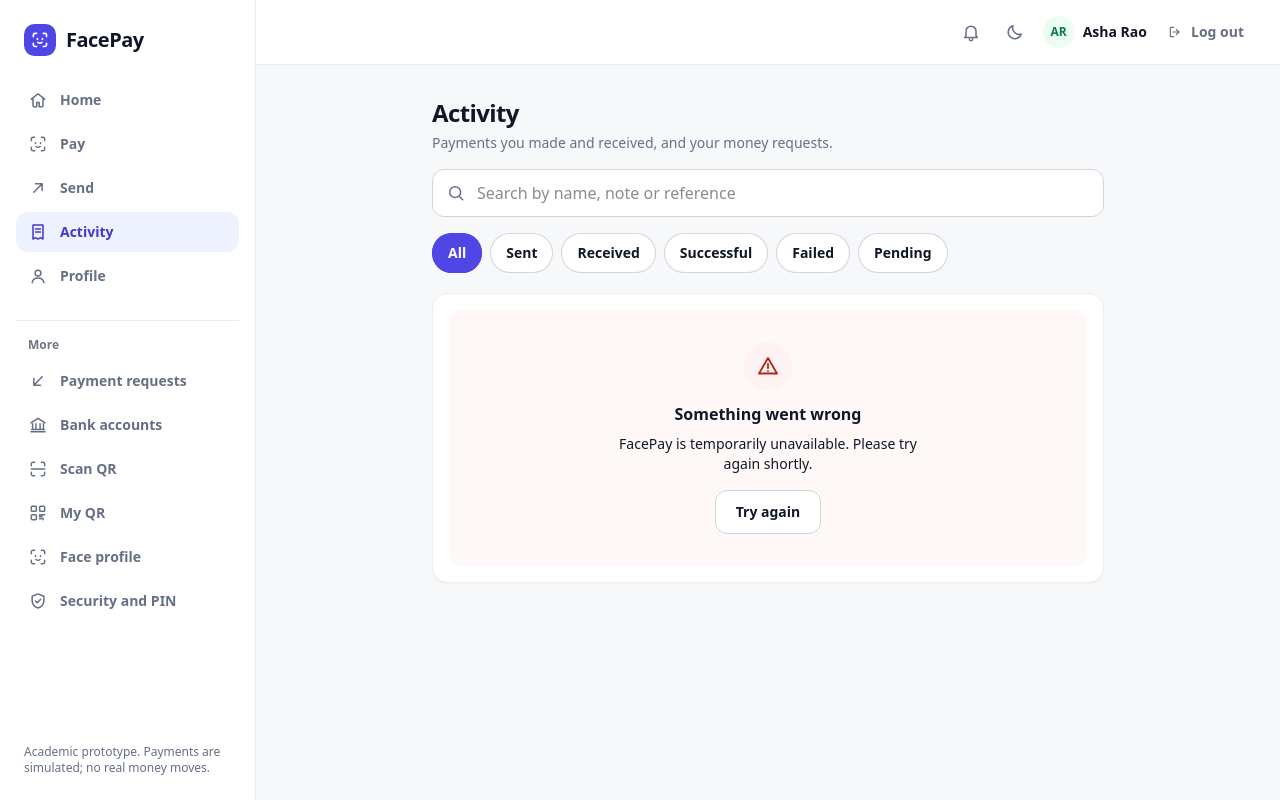
Test case: transactions page › shows a friendly error with a working retry
The width and height of the screenshot is (1280, 800).
Check: the message shows "temporarily unavailable", box x1=619 y1=434 x2=917 y2=473
Step 1. Click the button "Try again" → [768, 512], box x1=715 y1=490 x2=821 y2=534
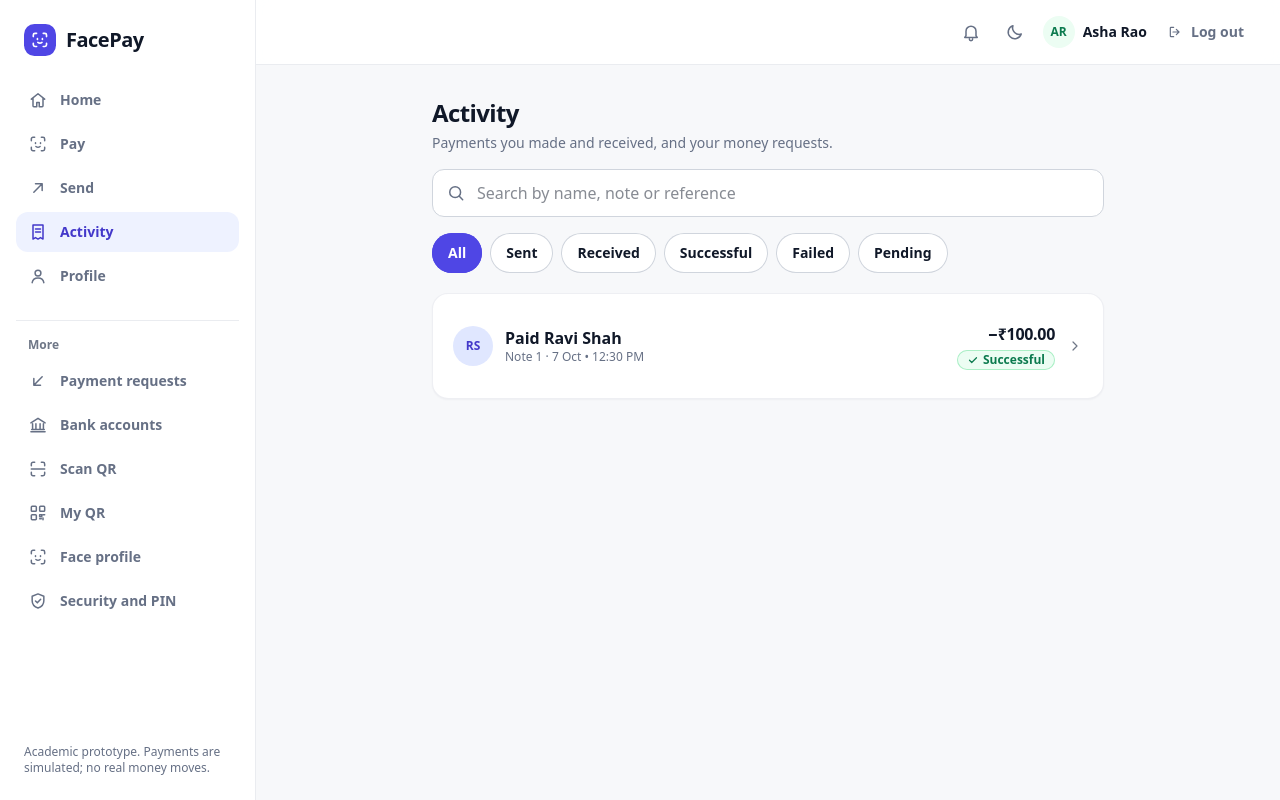
Check: the list named "Activity" is shown, box x1=449 y1=310 x2=1087 y2=382
